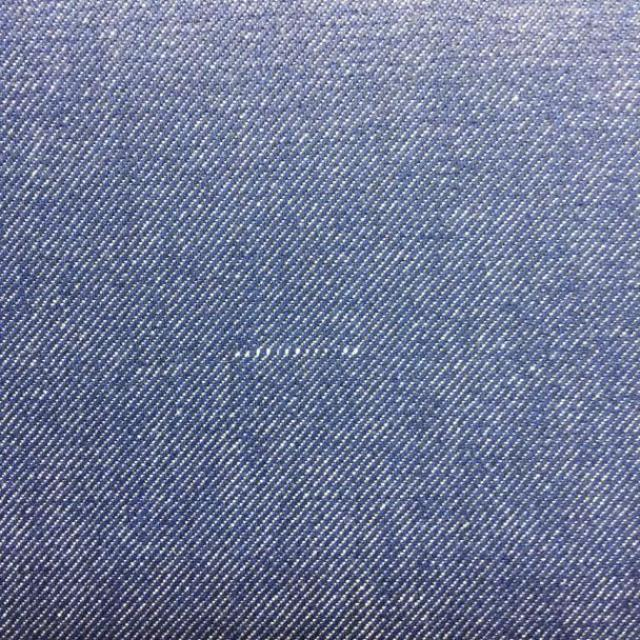Knot: (233, 344, 361, 362)
